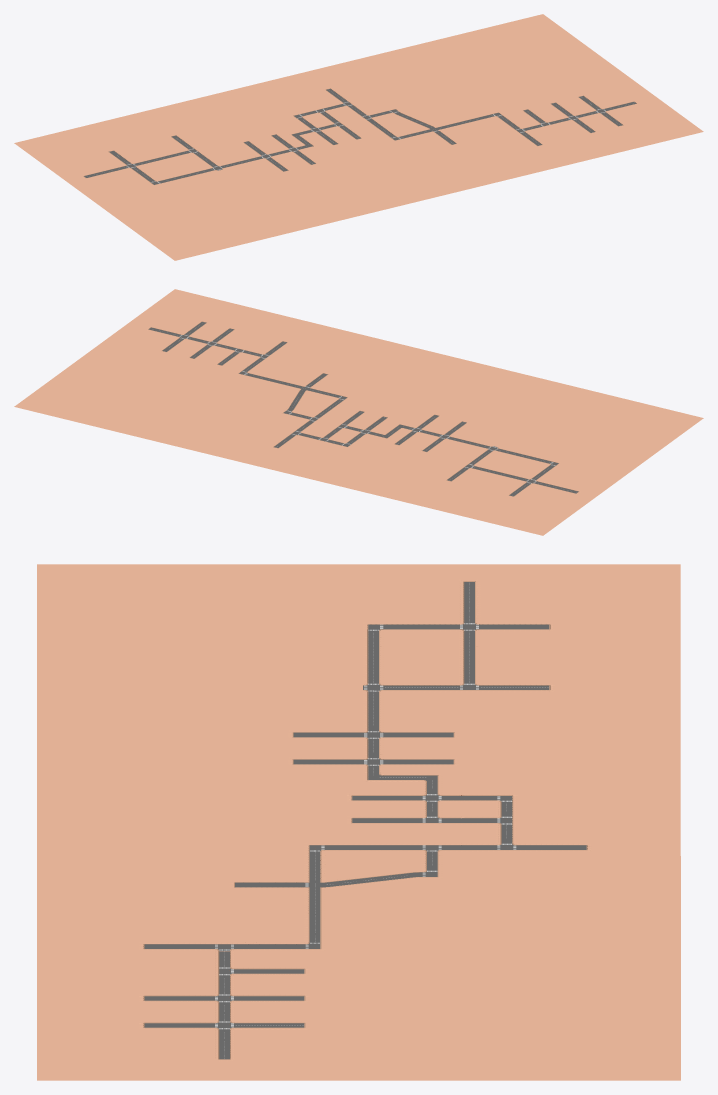
Rendered from Level 05.fbx.
The picture shows the model from 3 angles, top to bottom: view 1: azimuth 30°, elevation 25°; view 2: azimuth 150°, elevation 25°; view 3: azimuth 270°, elevation 25°; orthographic projection. The views are drawn at different scales.
Parts seen in each view (by area): view 1: Footpath, Road; view 2: Footpath, Road; view 3: Footpath, Road.
Boxes of the visible parts, x1,y1,x2,y2 form: Footpath: (14, 14, 703, 260); Road: (80, 87, 639, 186); Footpath: (14, 289, 703, 535); Road: (145, 320, 581, 497); Footpath: (37, 564, 680, 1080); Road: (139, 579, 591, 1061).
Bounding box in the file's own units: 114643 × 120 × 60402.
